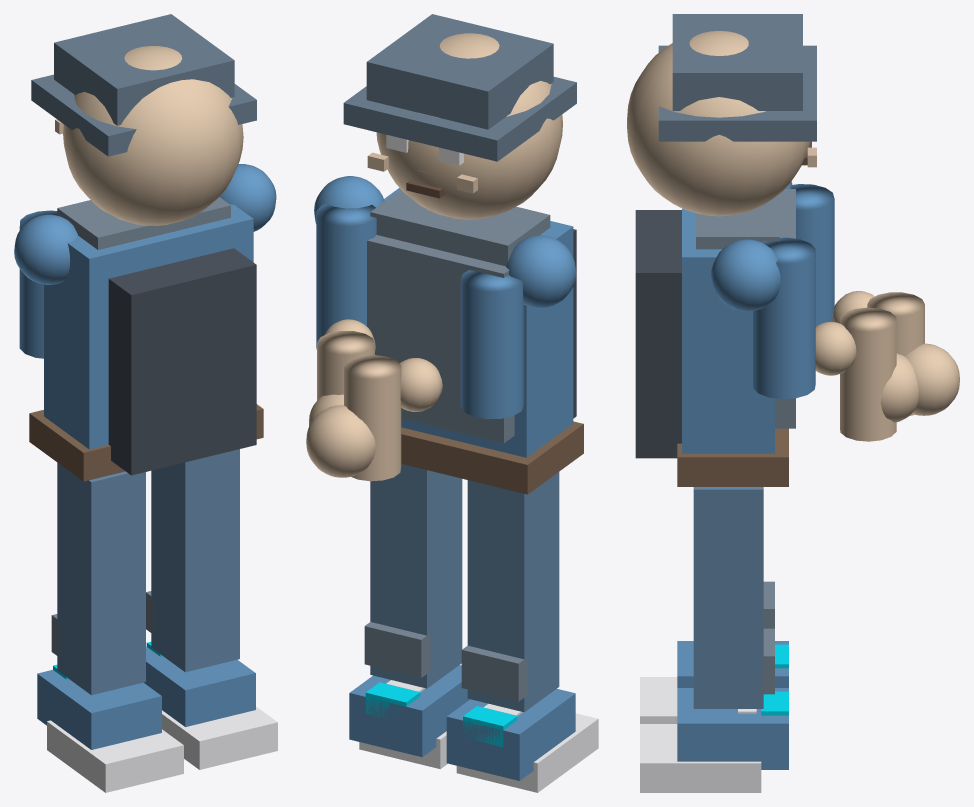
Rendered from operator.glb.
The picture shows the model from 3 angles, left to right: view 1: azimuth 30°, elevation 25°; view 2: azimuth 150°, elevation 25°; view 3: azimuth 270°, elevation 25°; orthographic projection. The views are drawn at different scales.
Parts seen in each view (by area): view 1: pants (×2), backpack, head, torso, sneaker_body (×2), helmet_cap, sneaker_sole (×2), helmet_rim, collar, shoulder_l, belt, shoulder_r (+1 smaller); view 2: pants (×2), vest, helmet_cap, sneaker_body (×2), head, torso, upper_arm_l, helmet_rim, belt, collar, upper_arm_r, forearm_l (+10 smaller); view 3: head, pants, torso, backpack, helmet_cap, upper_arm_r, sneaker_body (×2), sneaker_sole (×2), forearm_r, helmet_rim, belt, shoulder_r (+10 smaller).
Part boxes in pixels (bbox=[...]): pants (×2): bbox=[57, 449, 239, 695]; backpack: bbox=[108, 248, 256, 475]; head: bbox=[63, 46, 243, 225]; torso: bbox=[44, 204, 253, 449]; sneaker_body (×2): bbox=[37, 647, 255, 749]; helmet_cap: bbox=[54, 14, 234, 125]; sneaker_sole (×2): bbox=[47, 706, 277, 792]; helmet_rim: bbox=[31, 74, 256, 156]; collar: bbox=[57, 197, 230, 249]; shoulder_l: bbox=[14, 214, 78, 284]; belt: bbox=[29, 404, 263, 481]; shoulder_r: bbox=[219, 164, 276, 231]; pants (×2): bbox=[370, 464, 559, 712]; vest: bbox=[367, 235, 514, 443]; helmet_cap: bbox=[366, 14, 553, 129]; sneaker_body (×2): bbox=[349, 665, 575, 780]; head: bbox=[376, 33, 562, 219]; torso: bbox=[384, 188, 573, 457]; upper_arm_l: bbox=[460, 270, 523, 419]; helmet_rim: bbox=[343, 77, 576, 161]; belt: bbox=[401, 421, 583, 494]; collar: bbox=[370, 190, 550, 266]; upper_arm_r: bbox=[316, 204, 376, 349]; forearm_l: bbox=[344, 355, 401, 481]; head: bbox=[627, 31, 809, 216]; pants: bbox=[693, 487, 763, 708]; torso: bbox=[682, 208, 774, 453]; backpack: bbox=[635, 210, 681, 458]; helmet_cap: bbox=[672, 14, 802, 110]; upper_arm_r: bbox=[753, 237, 815, 399]; sneaker_body (×2): bbox=[677, 641, 788, 769]; sneaker_sole (×2): bbox=[640, 677, 761, 792]; forearm_r: bbox=[840, 307, 896, 441]; helmet_rim: bbox=[658, 45, 816, 141]; belt: bbox=[677, 428, 788, 486]; shoulder_r: bbox=[711, 239, 780, 311].
Size of the model in its own units: 0.636 by 1.69 by 0.7148.
